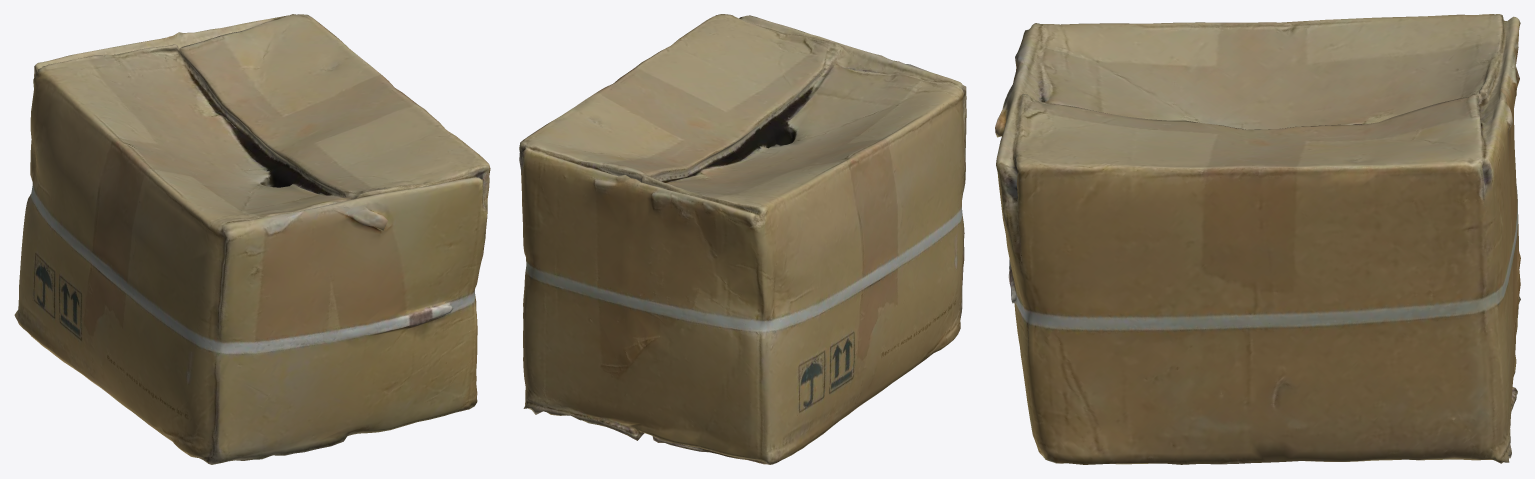
The model's file is cardboard_box_01_1k.glb.
3 views of the same model, side by side, from view 1: azimuth 30°, elevation 25°; view 2: azimuth 150°, elevation 25°; view 3: azimuth 270°, elevation 25° (orthographic). The views are drawn at different scales.
Parts seen in each view (by area): view 1: cardboard_box_01; view 2: cardboard_box_01; view 3: cardboard_box_01.
Boxes of the visible parts, x1=… form: cardboard_box_01: x1=14, y1=14, x2=490, y2=464; cardboard_box_01: x1=519, y1=14, x2=966, y2=464; cardboard_box_01: x1=995, y1=14, x2=1520, y2=464.
Size of the model in its own units: 0.387 by 0.3418 by 0.5159.
Materials: 1 (1 with a texture image).
